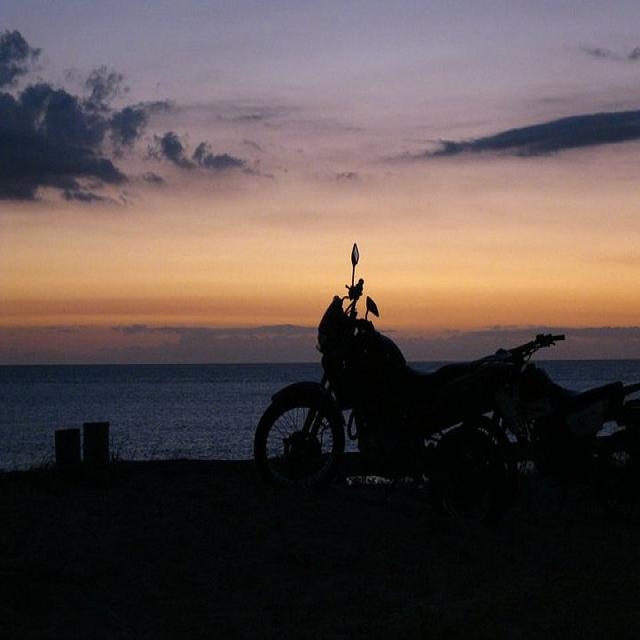motor: (253, 243, 565, 544)
